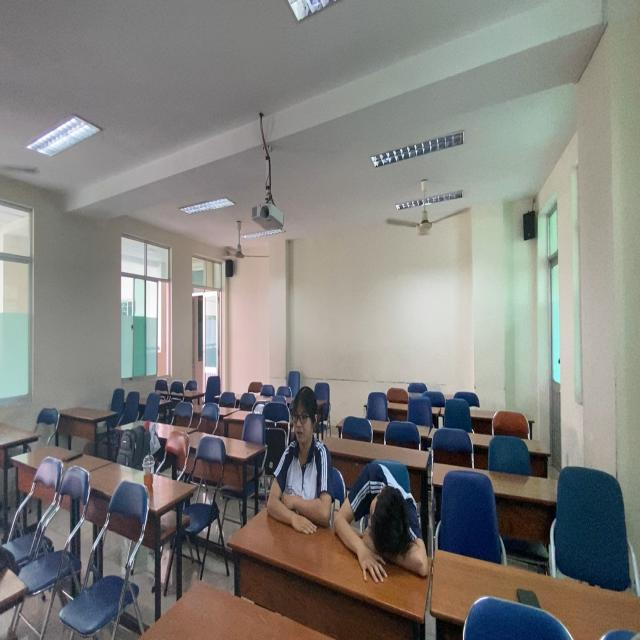sleep: (332, 457, 432, 587)
